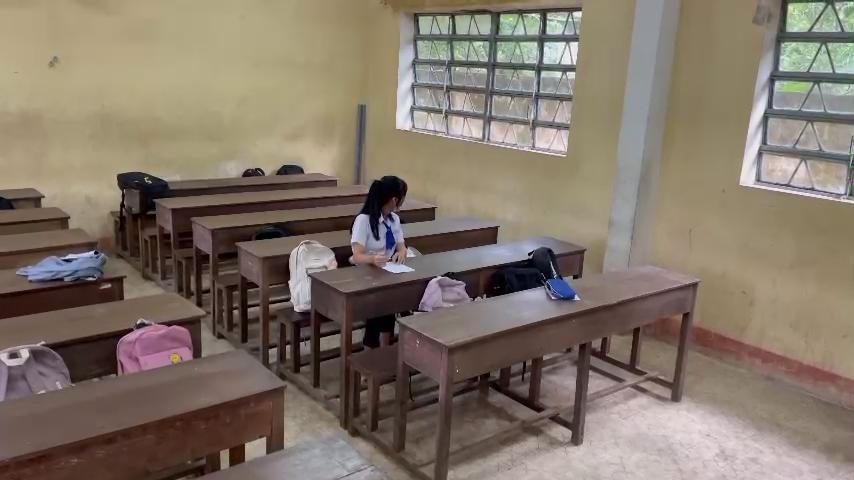Look Around: (357, 168, 413, 223)
